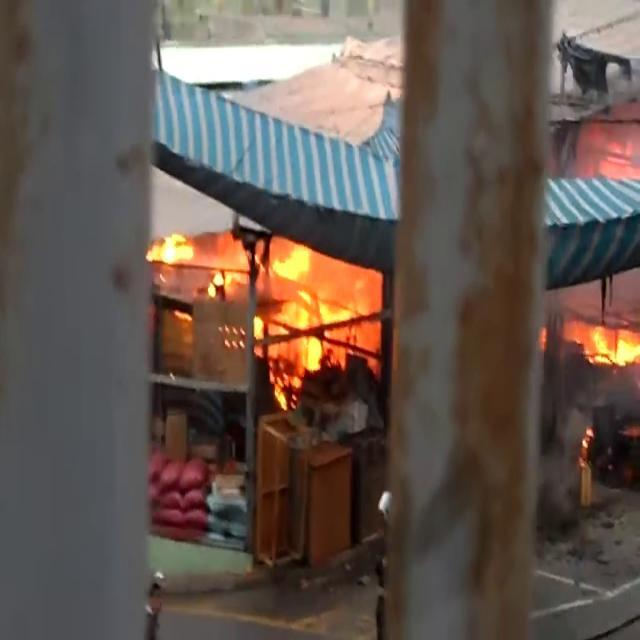Fire: (153, 228, 374, 397), (581, 310, 640, 378)
